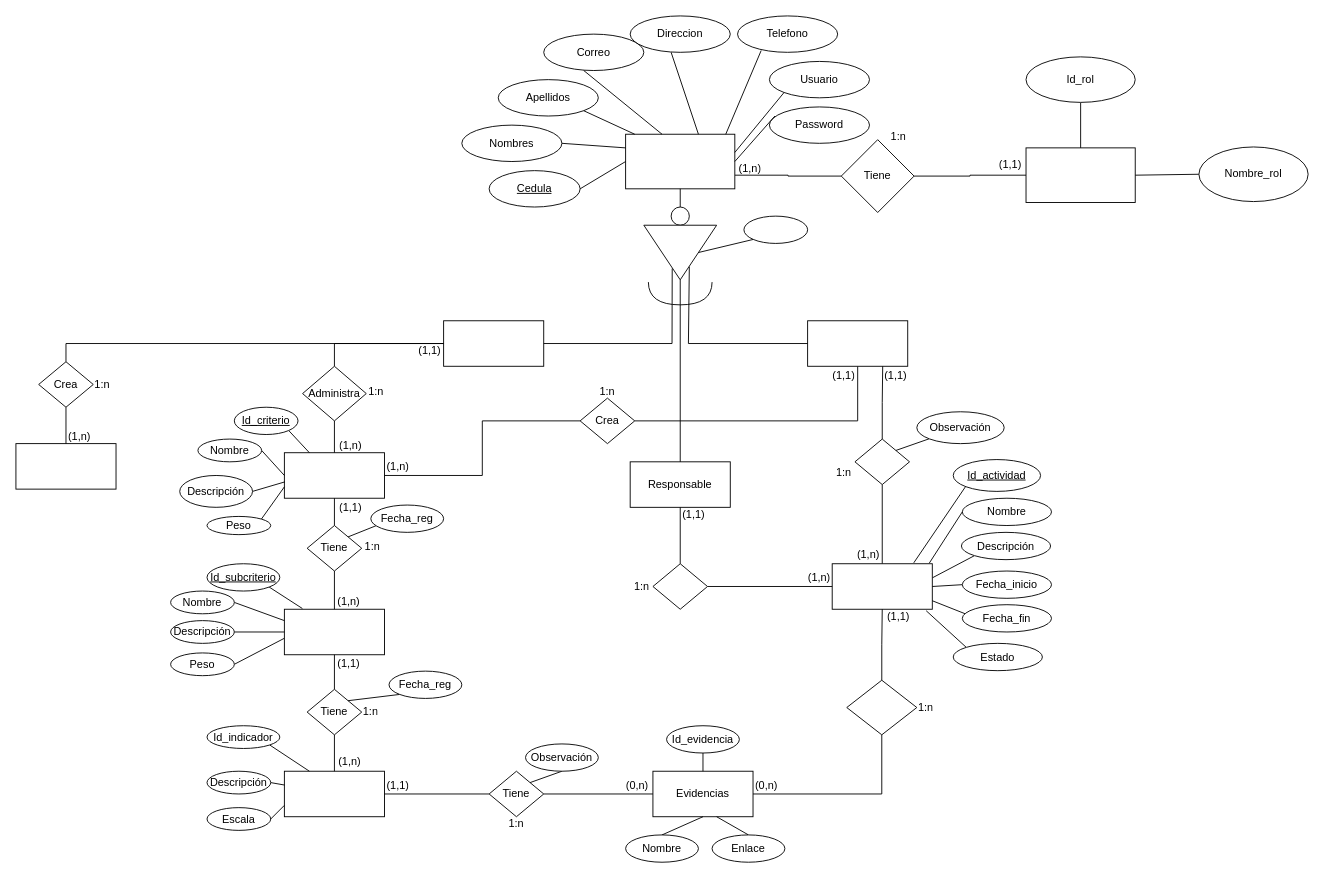
This 1324x878 diagram has some shape labels left out. Each missing label, with the centre of its shape:
"Actividades" belongs at pixel 881 586.
"Administrador" belongs at pixel 857 343.
"Criterios" belongs at pixel 333 475.
"Evalua" belongs at pixel 882 461.
"Indicadores" belongs at pixel 333 793.
"Persona" belongs at pixel 680 161.
"Pertenece" belongs at pixel 881 707.
"Plan Aseguramiento" belongs at pixel 65 466.
"Registra" belongs at pixel 680 586.
"Rol" belongs at pixel 1080 174.
"Subcriterios" belongs at pixel 333 631.
"Superadministrador" belongs at pixel 493 343.
"Tipo" belongs at pixel 775 229.
